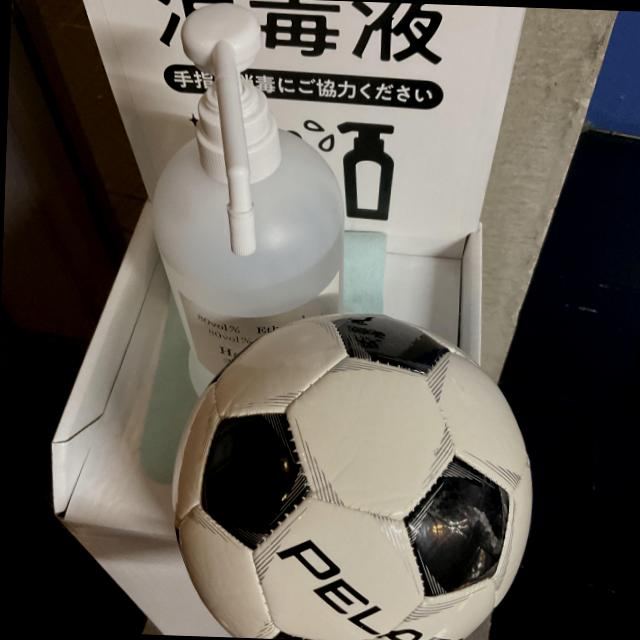Soccer Ball: (163, 303, 554, 640)
